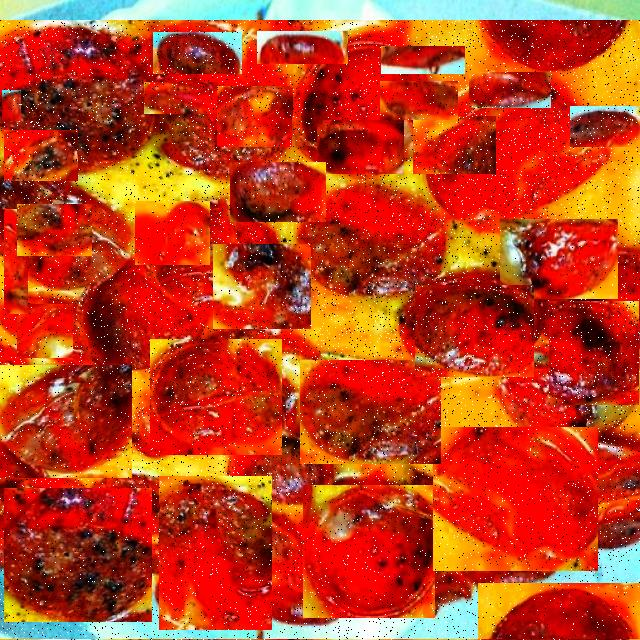Pepperoni: (433, 427, 598, 571), (4, 488, 152, 622), (303, 485, 435, 618), (159, 476, 272, 630), (150, 339, 282, 455), (0, 365, 132, 478), (300, 360, 441, 464), (415, 285, 534, 377), (88, 293, 192, 392), (501, 219, 618, 299), (549, 301, 639, 405), (478, 583, 640, 639), (213, 244, 311, 329), (539, 152, 640, 213), (230, 162, 326, 222), (92, 127, 192, 184), (413, 116, 498, 174), (135, 201, 210, 265), (317, 120, 404, 174), (218, 86, 294, 147), (55, 52, 136, 103), (17, 204, 92, 256), (4, 130, 78, 181), (153, 32, 242, 74), (380, 82, 458, 122), (17, 304, 73, 358), (289, 68, 352, 116), (257, 31, 348, 64), (469, 72, 551, 108), (570, 106, 640, 147), (4, 209, 28, 314), (144, 82, 218, 114), (381, 46, 465, 74), (2, 90, 21, 121)
Pizza: (0, 20, 640, 640)
